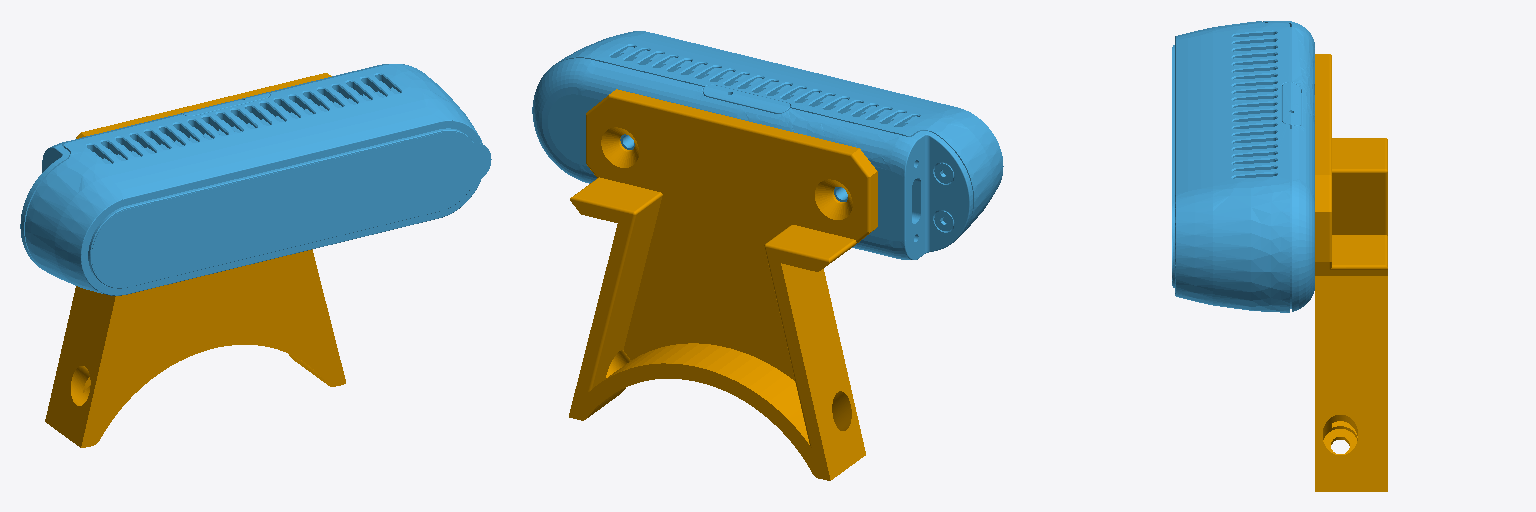
URDF robot description (wrist_camera_assembly):
<?xml version='1.0' encoding='utf-8'?>
<robot name="wrist_camera_assembly">
  <link name="wrist_camera_mount_link">
    <inertial>
      <mass value="0.0150652381071" />
      <origin xyz="1.04083408559e-17 0.0065 0.04575" rpy="0 0 0" />
      <inertia ixx="4.960543505902487e-06" iyy="9.26794616803508e-06" izz="4.73174020215032e-06" ixy="0" ixz="0" iyz="0" />
    </inertial>
    <visual>
      <geometry>
        <mesh filename="meshes/wrist_camera_mount_link.stl" scale="1 1 1" />
      </geometry>
    </visual>
    <collision>
      <origin xyz="1.04083408559e-17 0.0065 0.04575" rpy="0 0 0" />
      <geometry>
        <box size="0.06 0.013 0.0615" />
      </geometry>
    </collision>
  </link>
  <link name="wrist_camera_cad_link">
    <inertial>
      <mass value="0.075" />
      <origin xyz="5.19494703412e-05 -2.11403410411e-08 -0.0122270001582" rpy="0 0 0" />
      <inertia ixx="8.016970113793146e-06" iyy="5.461857737672868e-05" izz="5.441408083764847e-05" ixy="0" ixz="0" iyz="0" />
    </inertial>
    <visual>
      <geometry>
        <mesh filename="meshes/wrist_camera_cad_link.stl" scale="1 1 1" />
      </geometry>
    </visual>
    <collision>
      <origin xyz="5.19494703412e-05 -2.11403410411e-08 -0.0122270001582" rpy="0 0 0" />
      <geometry>
        <box size="0.089895801059 0.0249999577195 0.0256460003164" />
      </geometry>
    </collision>
  </link>
  <joint name="wrist_mount_to_camera" type="fixed">
    <parent link="wrist_camera_mount_link" />
    <child link="wrist_camera_cad_link" />
    <origin xyz="0 -0.02505 0.0665" rpy="1.5707963267948966 0 0" />
  </joint>
  <link name="wrist_camera_link" />
  <joint name="wrist_camera_body_frame" type="fixed">
    <parent link="wrist_camera_cad_link" />
    <child link="wrist_camera_link" />
    <origin xyz="0 0 0" rpy="-1.5707963267948966 -1.5707963267948966 0.0" />
  </joint>
  <link name="wrist_camera_optical_frame" />
  <joint name="wrist_camera_optical_joint" type="fixed">
    <parent link="wrist_camera_link" />
    <child link="wrist_camera_optical_frame" />
    <origin xyz="0 0 0" rpy="-1.5707963267948966 0 -1.5707963267948966" />
  </joint>
</robot>

--- Facts derived from the render (not from the file) ---
Views: 3 orthographic renders of the robot side by side, from view 1: azimuth 30°, elevation 25°; view 2: azimuth 150°, elevation 25°; view 3: azimuth 270°, elevation 25°.
Model wrist_camera_assembly with 4 links and 3 joints (3 fixed), rooted at wrist_camera_mount_link, posed every joint at zero.
Links seen in each view (by area): view 1: wrist_camera_cad_link, wrist_camera_mount_link; view 2: wrist_camera_mount_link, wrist_camera_cad_link; view 3: wrist_camera_cad_link, wrist_camera_mount_link.
Link boxes in pixels (<box>): wrist_camera_cad_link: <box>20,64,491,295</box>; wrist_camera_mount_link: <box>45,73,345,447</box>; wrist_camera_mount_link: <box>569,89,877,480</box>; wrist_camera_cad_link: <box>532,31,1003,259</box>; wrist_camera_cad_link: <box>1172,21,1314,312</box>; wrist_camera_mount_link: <box>1315,54,1387,491</box>.
Bounding box of the posed robot: 0.0899 × 0.0386 × 0.064 m (x, y, z).
Meshes: 2 distinct files referenced, 2 mesh visuals loaded (2 binary STL).
